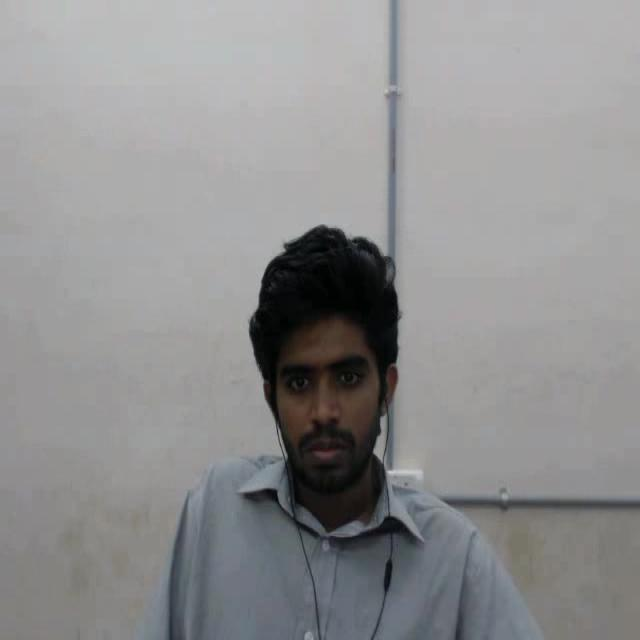Engaged: (224, 205, 446, 530)
